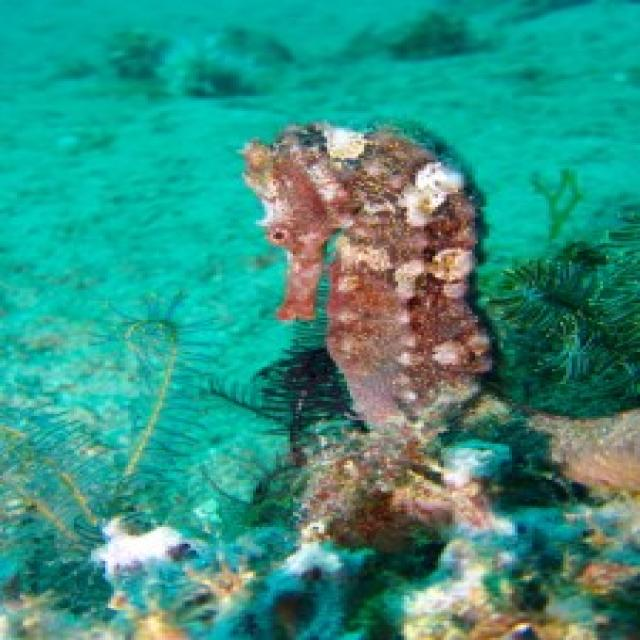Seahorse: (242, 89, 534, 533)
